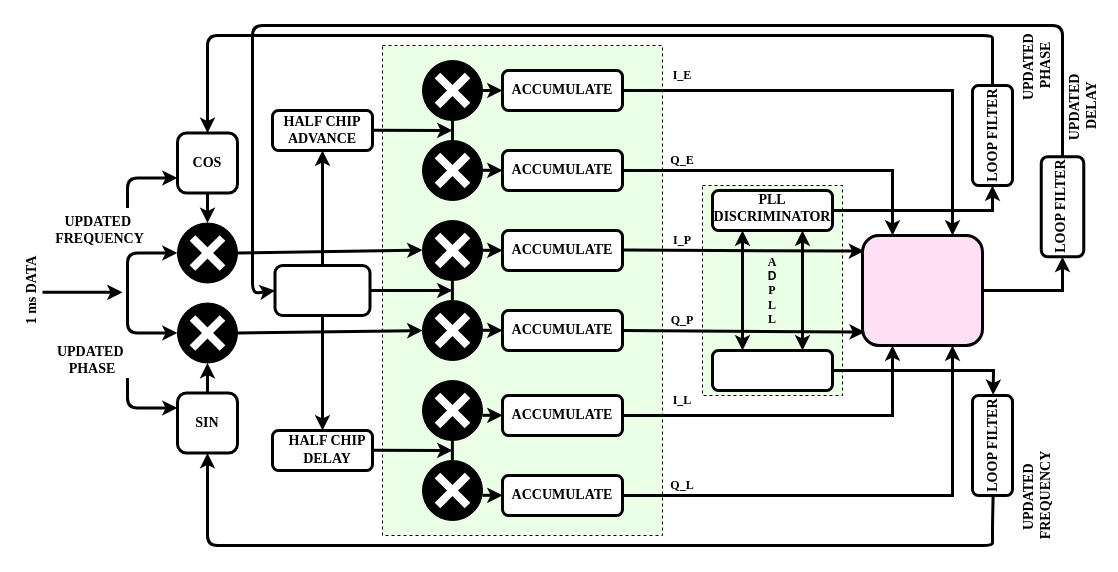
Some shapes in this 1118 by 572 pixel diagram are drawn without their labels. Each missing label, with the centre of its shape:
CA CODE GENERATOR: point 322,290
DLL DISCRIMINATOR: point 922,290
FLL DISCRIMINATOR: point 772,370
